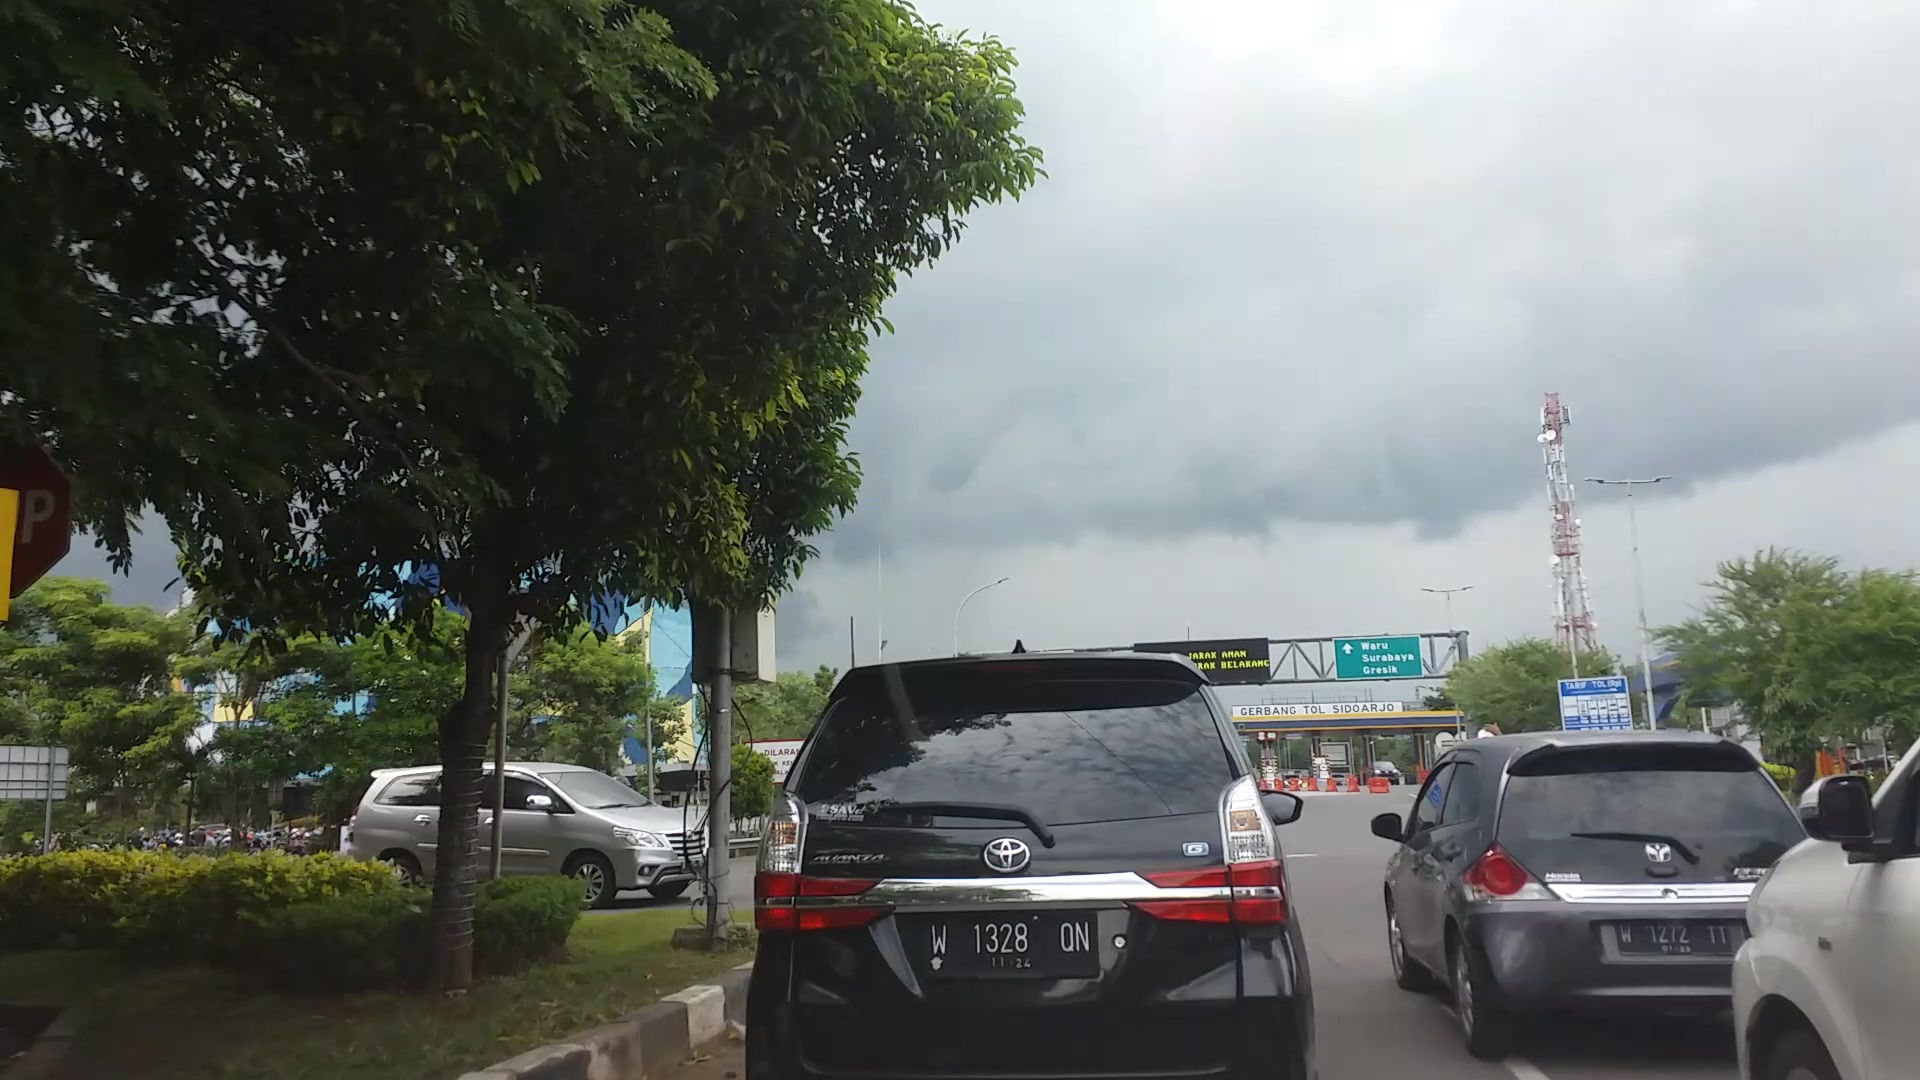plate_positive: (922, 915, 1098, 977), (1615, 919, 1731, 956)
